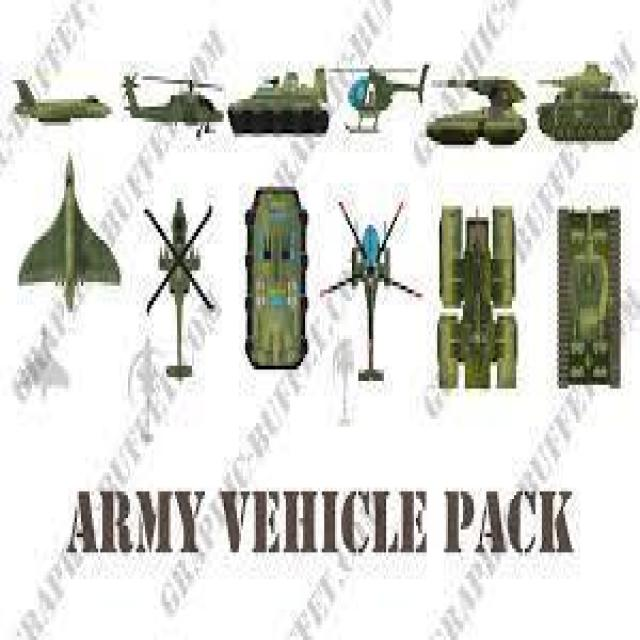Tanks: (436, 200, 520, 390), (555, 204, 623, 386), (244, 183, 310, 369), (534, 59, 637, 147), (228, 63, 333, 135), (427, 78, 529, 151)
